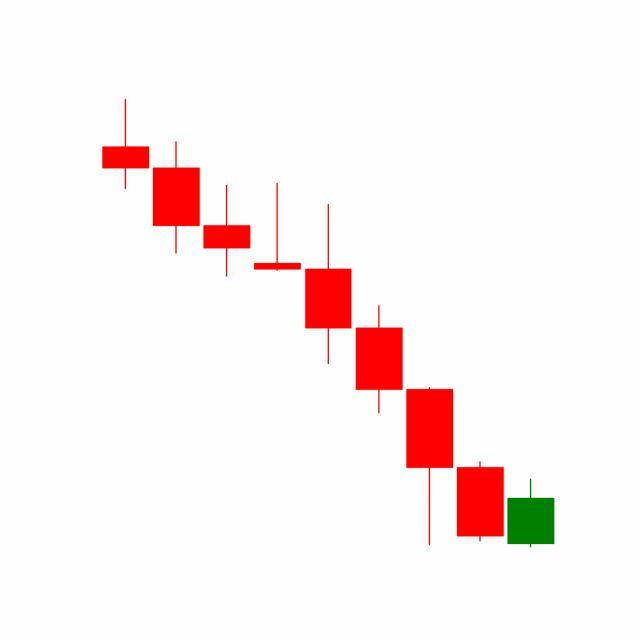Hikkake Pattern: (302, 200, 555, 549)
